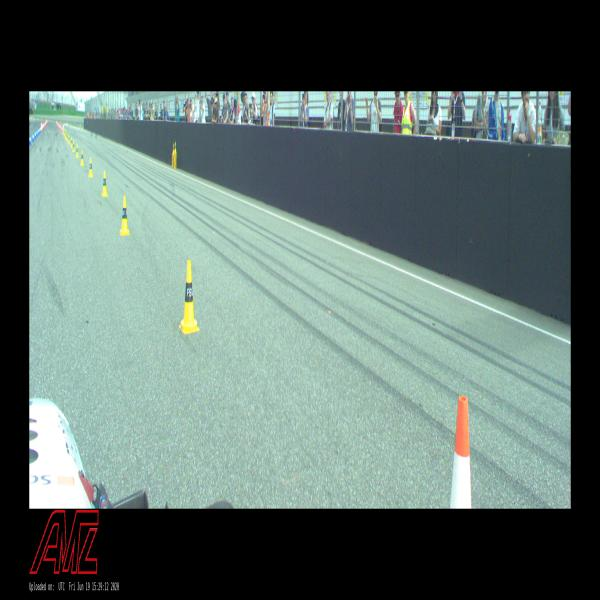blue_cone: (29, 135, 32, 145), (32, 132, 34, 142), (34, 130, 36, 139), (36, 129, 38, 137)
large_orange_cone: (450, 396, 472, 509)
yellow_cone: (179, 261, 199, 331), (120, 196, 129, 235), (101, 170, 108, 196), (88, 158, 93, 177), (80, 150, 84, 166), (76, 144, 79, 157), (73, 140, 75, 152), (70, 137, 72, 147), (68, 134, 70, 144), (66, 132, 68, 141)
